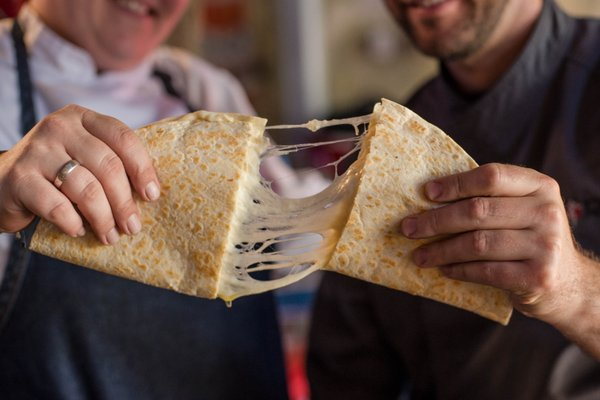soup: (25, 109, 275, 300)
